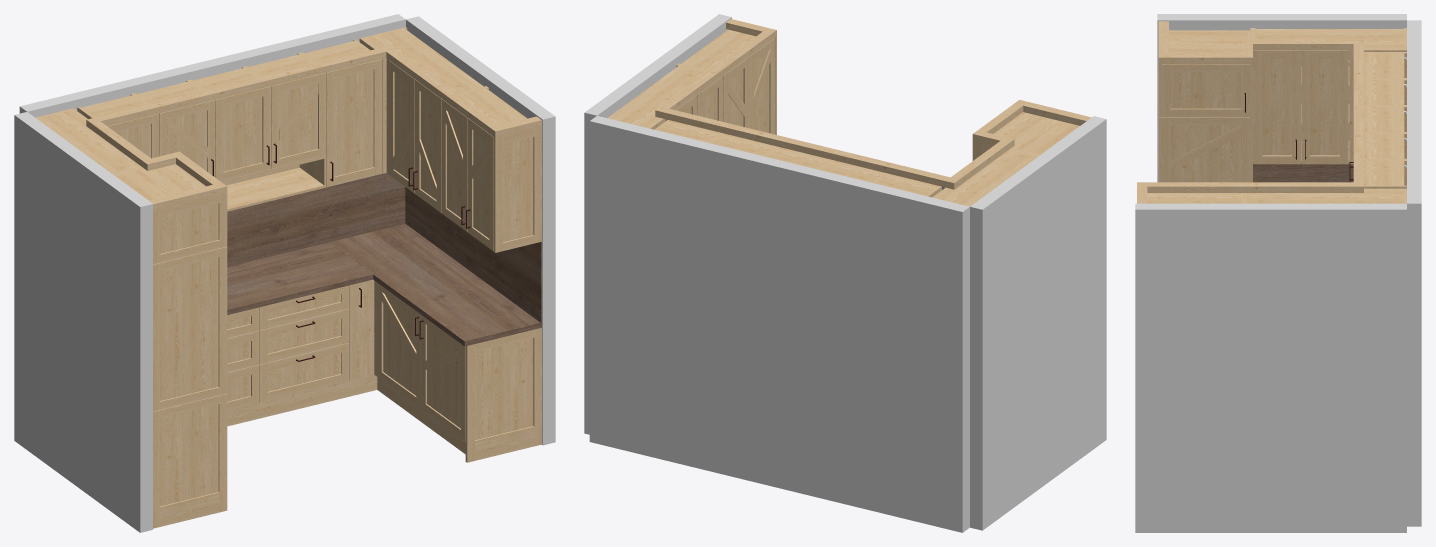
Rendered from KONYHA-02.glb.
The picture shows the model from 3 angles, left to right: view 1: azimuth 30°, elevation 25°; view 2: azimuth 150°, elevation 25°; view 3: azimuth 270°, elevation 25°; orthographic projection.
Visible parts, largest first — view 1: 3DGeom-2, 3DGeom-635, 3DGeom-637, 3DGeom-107, 3DGeom-3, 3DGeom-1, 3DGeom-638, 3DGeom-634, 3DGeom-328, 3DGeom-97, 3DGeom-573, 3DGeom-630 (+51 smaller); view 2: 3DGeom-1, 3DGeom-2, 3DGeom-3, 3DGeom-630, 3DGeom-384, 3DGeom-337, 3DGeom-48, 3DGeom-631, 3DGeom-590, 3DGeom-612, 3DGeom-629, 3DGeom-627 (+7 smaller); view 3: 3DGeom-3, 3DGeom-1, 3DGeom-2, 3DGeom-87, 3DGeom-365, 3DGeom-370, 3DGeom-61, 3DGeom-631, 3DGeom-362 (×2), 3DGeom-364 (×2), 3DGeom-337, 3DGeom-636 (+22 smaller).
Part boxes in pixels (left/top/right/bottom): 3DGeom-2: left=14, top=112, right=152, bottom=532; 3DGeom-635: left=329, top=223, right=541, bottom=346; 3DGeom-637: left=227, top=173, right=405, bottom=266; 3DGeom-107: left=160, top=257, right=218, bottom=400; 3DGeom-3: left=406, top=16, right=555, bottom=445; 3DGeom-1: left=19, top=14, right=405, bottom=117; 3DGeom-638: left=405, top=187, right=541, bottom=322; 3DGeom-634: left=227, top=242, right=373, bottom=314; 3DGeom-328: left=475, top=338, right=533, bottom=440; 3DGeom-97: left=160, top=404, right=218, bottom=506; 3DGeom-573: left=334, top=69, right=373, bottom=176; 3DGeom-630: left=86, top=46, right=393, bottom=128; 3DGeom-1: left=589, top=116, right=969, bottom=532; 3DGeom-2: left=970, top=116, right=1106, bottom=530; 3DGeom-3: left=584, top=14, right=731, bottom=434; 3DGeom-630: left=655, top=108, right=958, bottom=189; 3DGeom-384: left=608, top=66, right=706, bottom=127; 3DGeom-337: left=935, top=150, right=1036, bottom=206; 3DGeom-48: left=993, top=112, right=1079, bottom=154; 3DGeom-631: left=656, top=28, right=776, bottom=111; 3DGeom-590: left=682, top=29, right=755, bottom=70; 3DGeom-612: left=754, top=51, right=769, bottom=132; 3DGeom-629: left=945, top=138, right=1014, bottom=189; 3DGeom-627: left=1021, top=102, right=1091, bottom=125; 3DGeom-3: left=1135, top=203, right=1406, bottom=532; 3DGeom-1: left=1407, top=20, right=1421, bottom=526; 3DGeom-2: left=1157, top=14, right=1406, bottom=182; 3DGeom-87: left=1171, top=125, right=1240, bottom=182; 3DGeom-365: left=1310, top=58, right=1339, bottom=155; 3DGeom-370: left=1262, top=58, right=1291, bottom=155; 3DGeom-61: left=1171, top=72, right=1240, bottom=108; 3DGeom-631: left=1137, top=182, right=1363, bottom=192; 3DGeom-362 (×2): left=1253, top=50, right=1309, bottom=164; 3DGeom-364 (×2): left=1292, top=50, right=1348, bottom=164; 3DGeom-337: left=1255, top=29, right=1404, bottom=50; 3DGeom-636: left=1253, top=163, right=1353, bottom=182.
Size of the model in its own units: 3.14 by 2.42 by 1.94.
21 materials, 9 textured.
